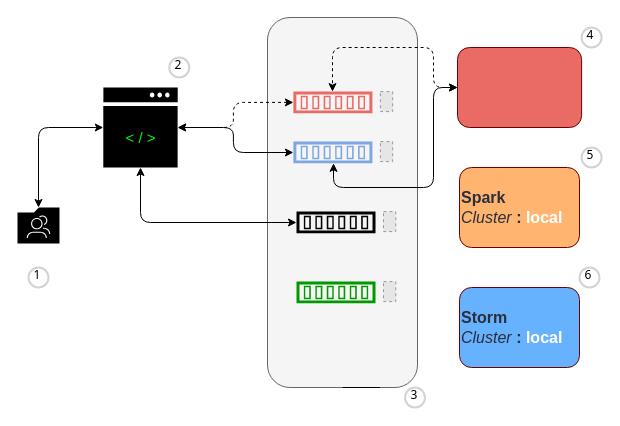
Some shapes in this 620 by 426 pixel diagram are drawn without their labels. Grey dashed boxes stand in for pictures. The box of each missing label's shape, as (x1, y1, x2, y2) in pixels:
Kafka Cluster : local: (266, 16, 418, 388)
Shiva Leader|Worker Cluster : local: (456, 46, 582, 128)
